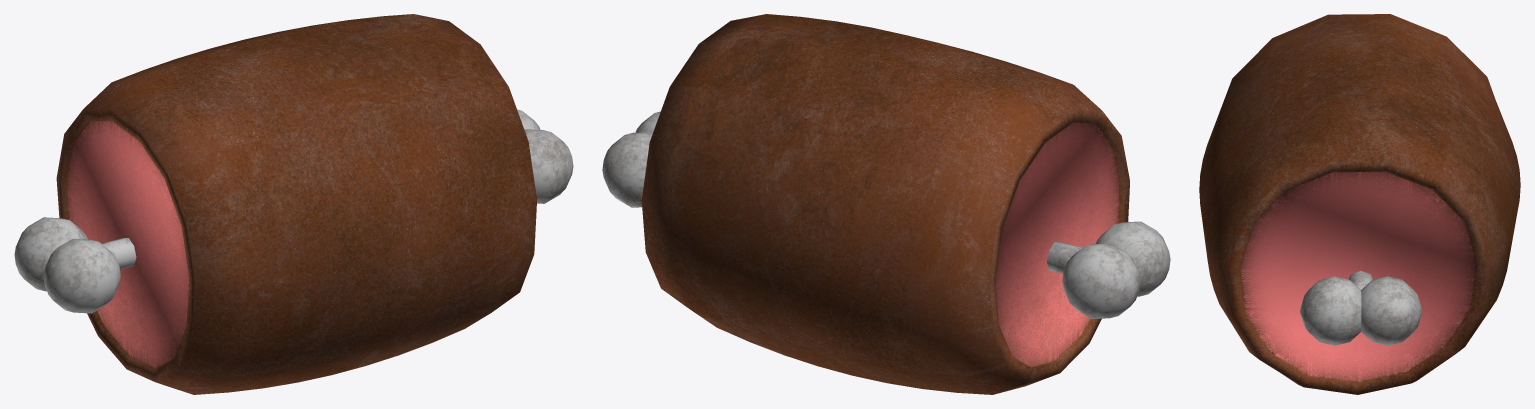
Rendered from Carne.obj.
The picture shows the model from 3 angles, left to right: view 1: azimuth 30°, elevation 25°; view 2: azimuth 150°, elevation 25°; view 3: azimuth 270°, elevation 25°; orthographic projection. The views are drawn at different scales.
Visible parts, largest first — view 1: Cylinder003; view 2: Cylinder003; view 3: Cylinder003.
Boxes of the visible parts, x1,y1,x2,y2 form: Cylinder003: (14, 14, 573, 394); Cylinder003: (602, 14, 1170, 394); Cylinder003: (1199, 14, 1520, 394).
Bounding box in the file's own units: 2.97 × 1.73 × 1.76.
Materials: 1 (1 with a texture image).
